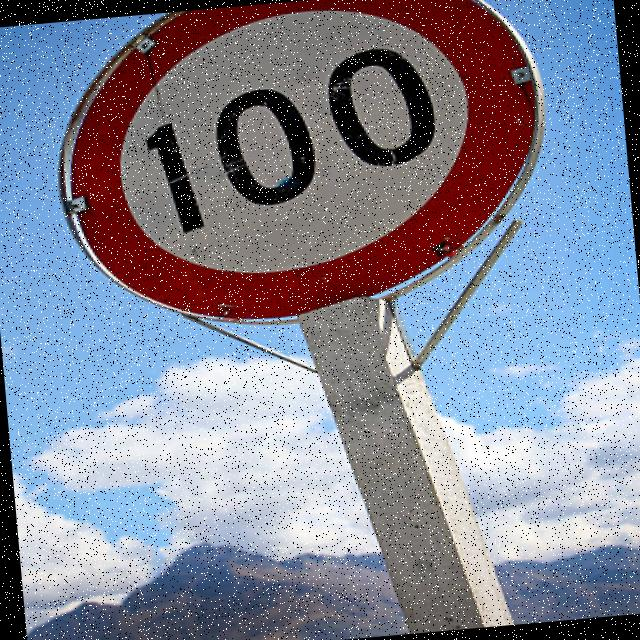speed_limit_100: (29, 0, 587, 341)
